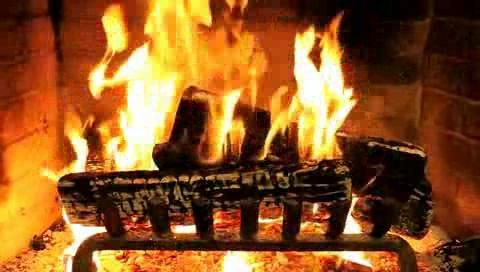fire: (83, 6, 361, 175)
